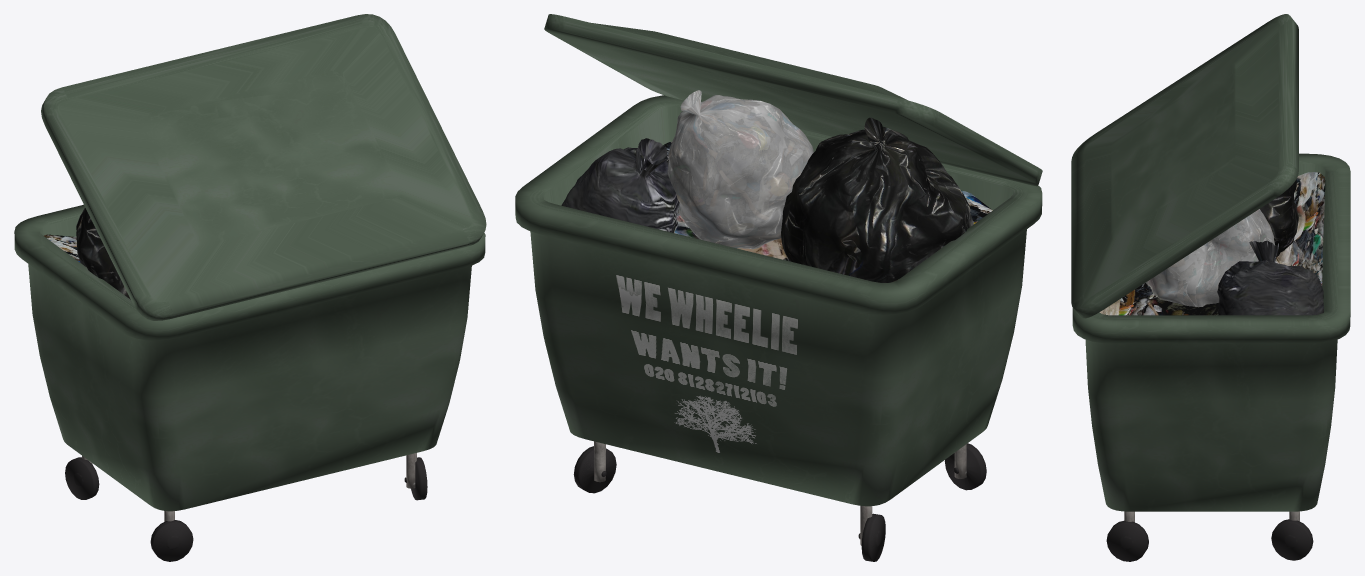
File: wheelieBinWith3Bags.obj
3 renders of one model, left to right at view 1: azimuth 30°, elevation 25°; view 2: azimuth 150°, elevation 25°; view 3: azimuth 270°, elevation 25°, orthographic. The views are drawn at different scales.
Visible parts, largest first — view 1: Box002, Box0011, wheels, binbag3; view 2: Box0012, Box0011, Box002, binbag3, binbag2, binbag1, wheels, junskk, axels; view 3: Box0011, Box002, binbag1, binbag2, junskk, wheels, binbag3.
Boxes of the visible parts, x1,y1,x2,y2 form: Box002: [41, 14, 486, 320]; Box0011: [14, 204, 485, 511]; wheels: [65, 457, 427, 561]; binbag3: [76, 208, 130, 299]; Box0012: [548, 236, 864, 503]; Box0011: [515, 95, 1042, 506]; Box002: [544, 14, 1042, 186]; binbag3: [781, 117, 973, 282]; binbag2: [667, 90, 813, 249]; binbag1: [561, 138, 679, 232]; wheels: [573, 443, 986, 561]; junskk: [663, 142, 992, 281]; axels: [594, 441, 966, 545]; Box0011: [1072, 153, 1350, 511]; Box002: [1071, 14, 1298, 318]; binbag1: [1217, 240, 1323, 315]; binbag2: [1145, 209, 1275, 307]; junskk: [1099, 172, 1325, 315]; wheels: [1106, 519, 1313, 561]; binbag3: [1260, 179, 1298, 256].
Size of the model in its own units: 84.46 by 93.82 by 57.96.
